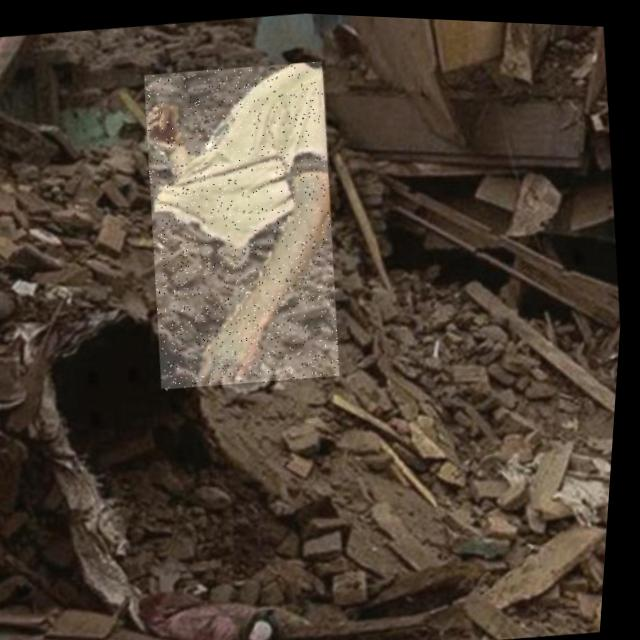Person in Rubble: (128, 52, 361, 395)
